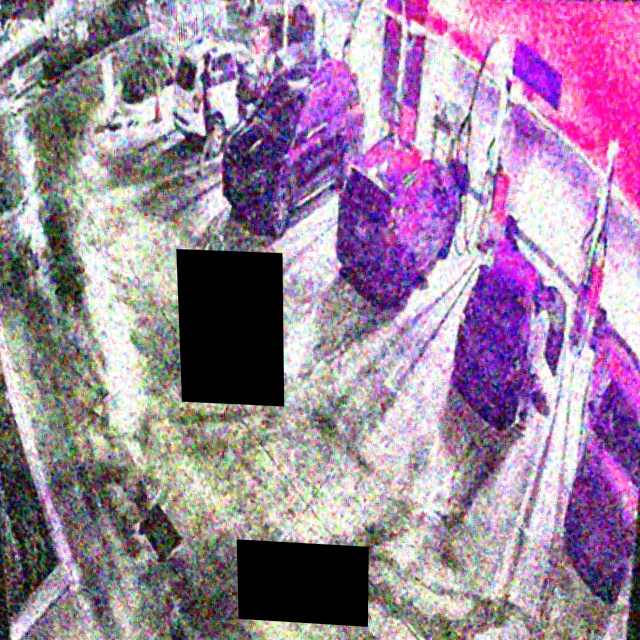Car: (217, 54, 366, 234), (451, 232, 572, 430), (338, 133, 459, 312)
